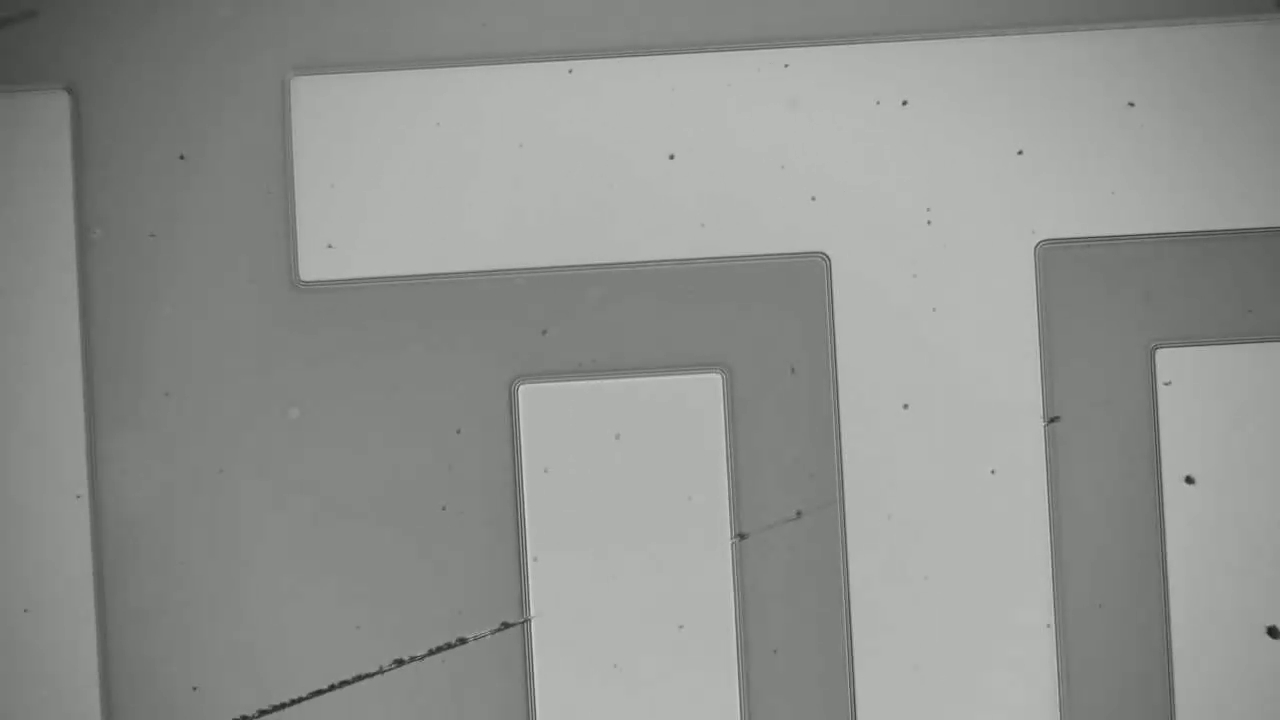scratch: (245, 618, 523, 709), (742, 496, 830, 539)
